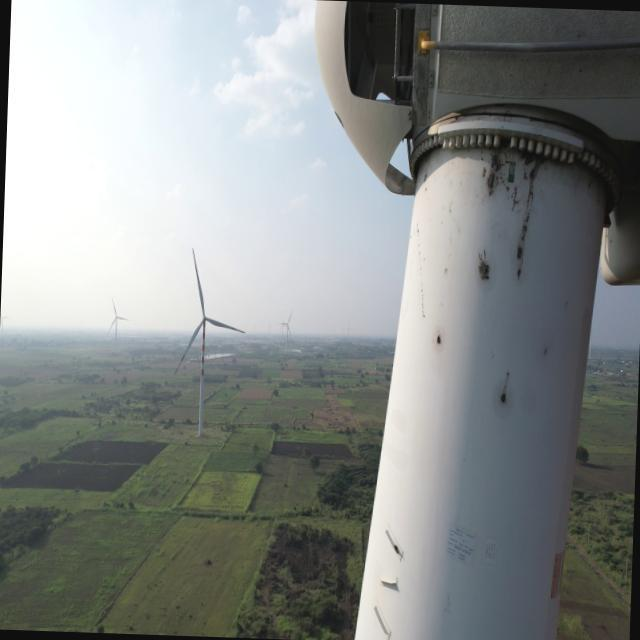Dirt: (372, 144, 615, 640)
